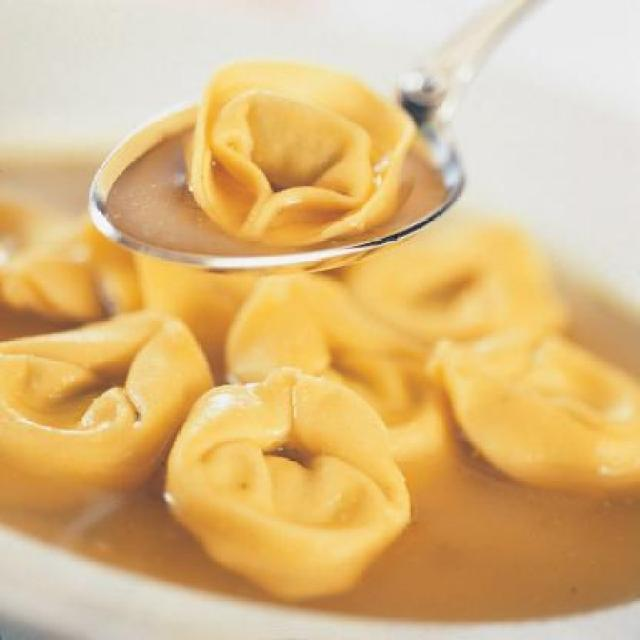Tortellini in broth: (164, 54, 464, 250)
